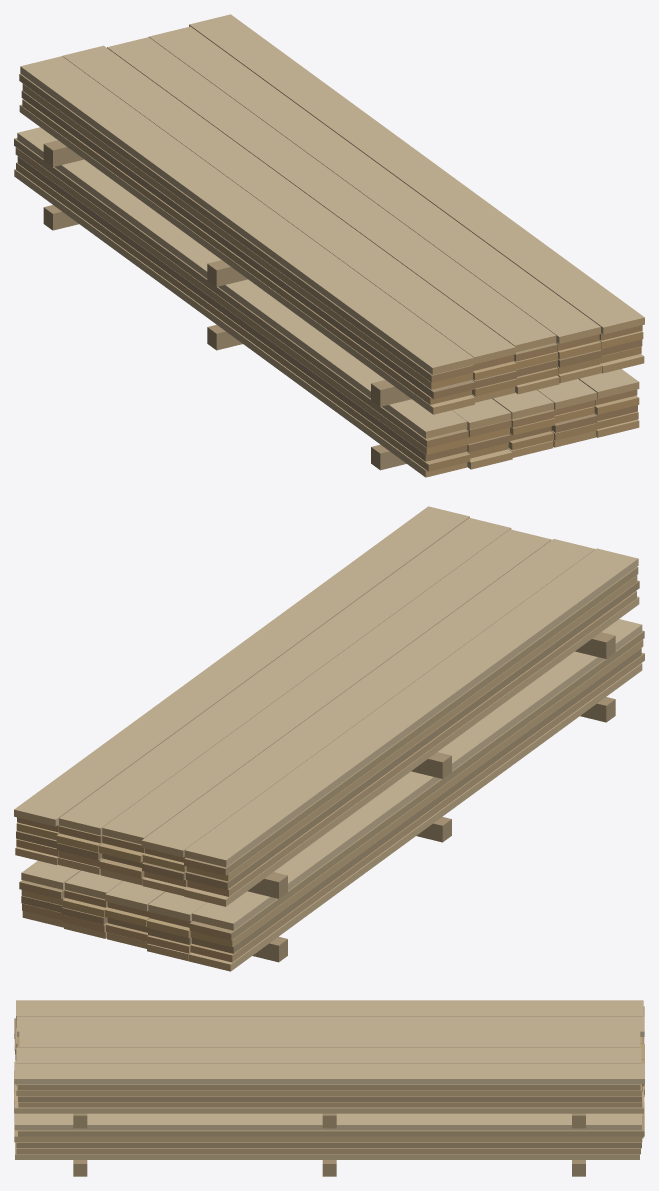
File: lumber-stack.glb
3 renders of one model, top to bottom at view 1: azimuth 30°, elevation 25°; view 2: azimuth 150°, elevation 25°; view 3: azimuth 270°, elevation 25°, orthographic. The views are drawn at different scales.
Parts seen in each view (by area): view 1: LumberStack_LumberFace, LumberStack_LumberEnd; view 2: LumberStack_LumberFace, LumberStack_LumberEnd; view 3: LumberStack_LumberFace.
Part boxes in pixels (<box>): LumberStack_LumberFace: <box>14,14,644,477</box>; LumberStack_LumberEnd: <box>425,317,644,477</box>; LumberStack_LumberFace: <box>14,506,644,971</box>; LumberStack_LumberEnd: <box>14,809,233,971</box>; LumberStack_LumberFace: <box>14,1000,644,1176</box>.
Size of the model in its own units: 1.3 by 0.681 by 4.05.
